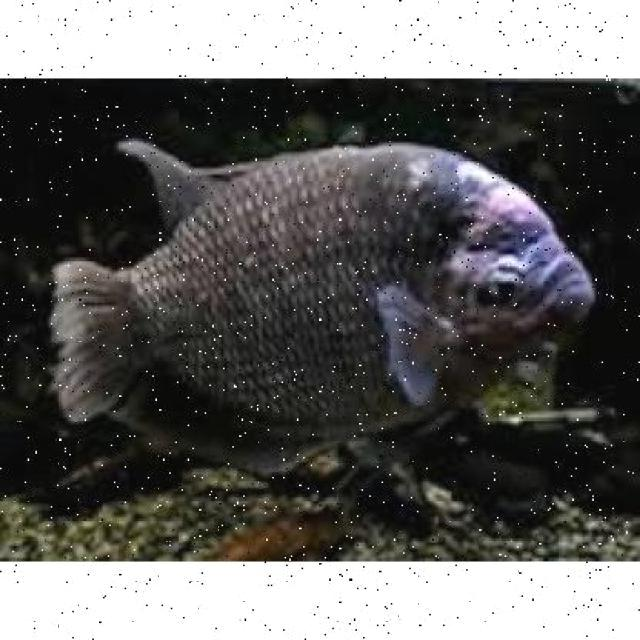gurame: (72, 134, 592, 460)
